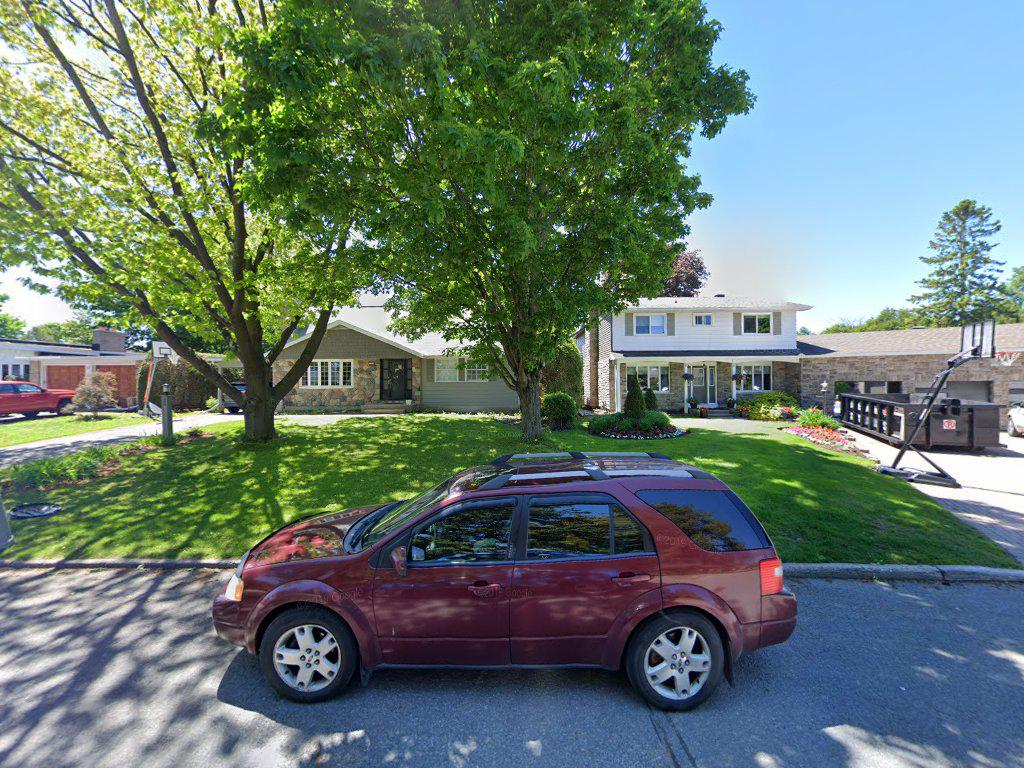trunk: (231, 286, 288, 460), (503, 322, 561, 452)
